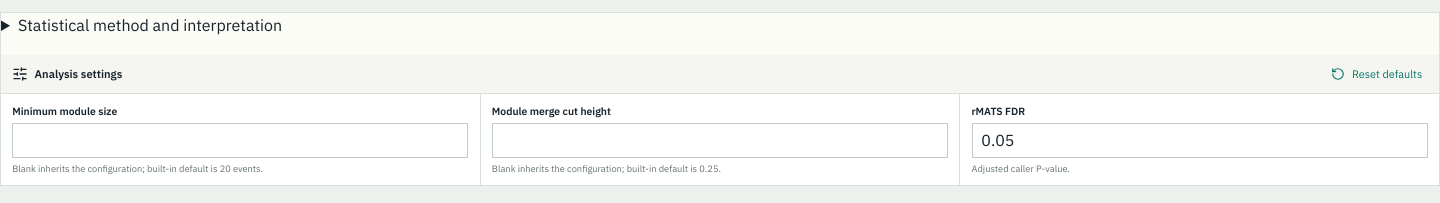
Test: keeps optional numeric controls blank and restores inherited settings when cleared
Expected: the number field labelled "Module merge cut height" is empty, [492, 123, 948, 158]
In the number field labelled "Minimum module size": (240, 140) [12, 123, 468, 158], type "37"
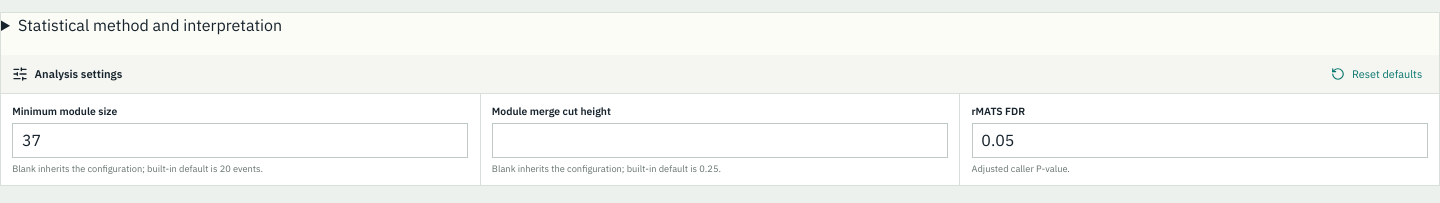
In the number field labelled "Module merge cut height": (720, 140) [492, 123, 948, 158], type "0.12"
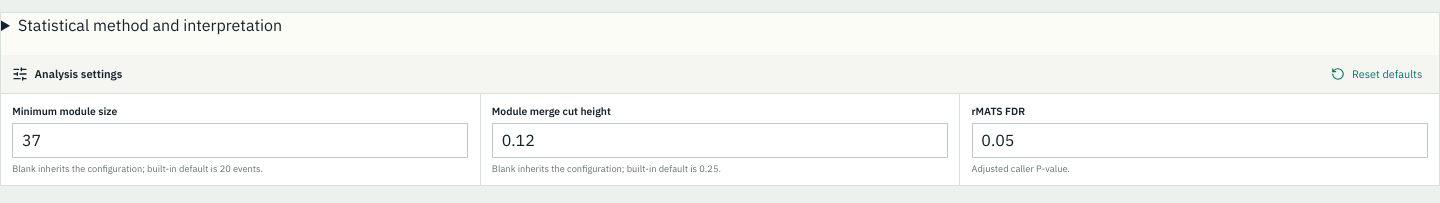
Clear the number field labelled "Minimum module size": (240, 140) [12, 123, 468, 158]
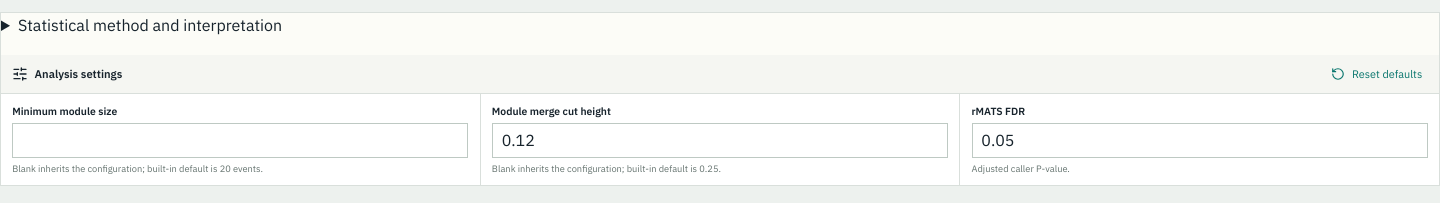
Clear the number field labelled "Module merge cut height": (720, 140) [492, 123, 948, 158]
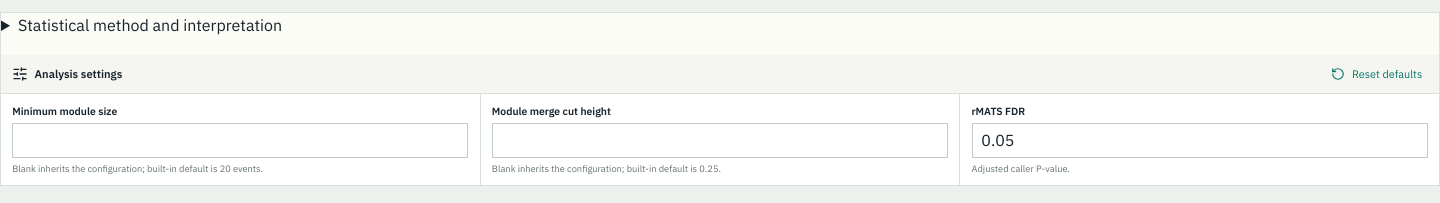
Replace the text in the number field labelled "rMATS FDR Adjusted caller P-value." with "0.01": (1200, 140) [972, 123, 1428, 158]
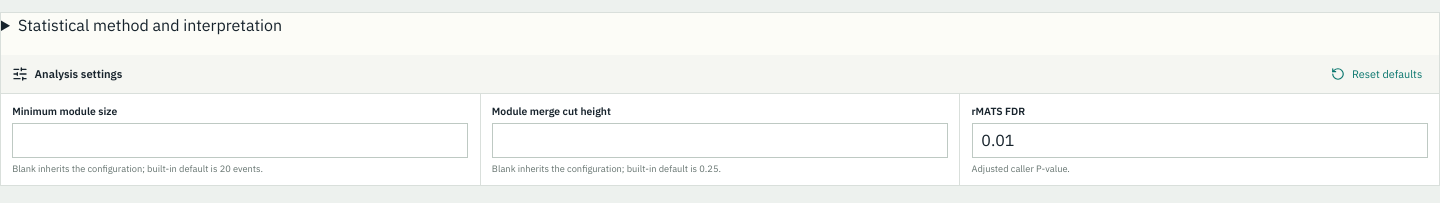
Clear the number field labelled "rMATS FDR Adjusted caller P-value.": (1200, 140) [972, 123, 1428, 158]
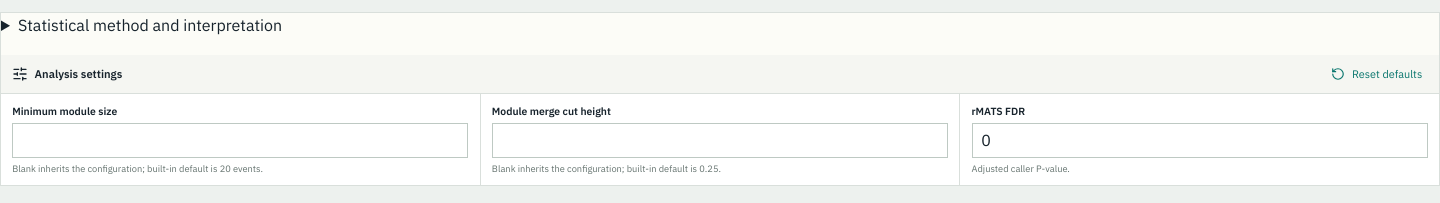
Expected: the number field labelled "rMATS FDR Adjusted caller P-value." holds "0", [972, 123, 1428, 158]
